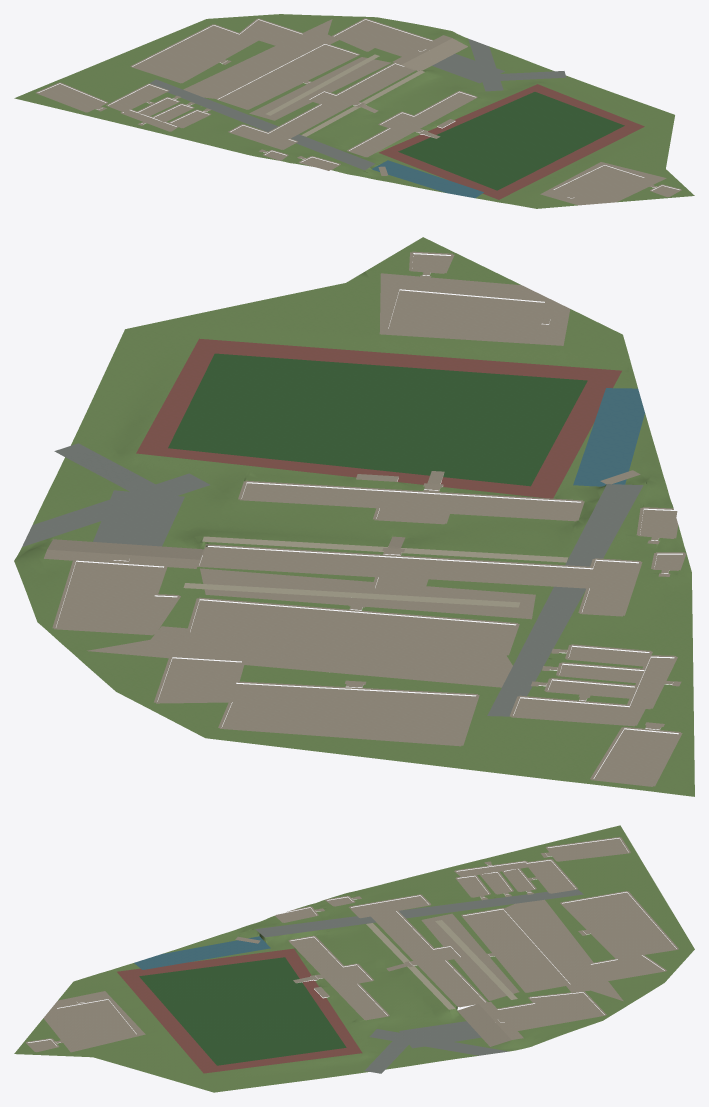
3 renders of one model, top to bottom at view 1: azimuth 30°, elevation 25°; view 2: azimuth 150°, elevation 25°; view 3: azimuth 270°, elevation 25°, orthographic. The views are drawn at different scales.
Visible parts, largest first — view 1: surface_school-garden-ground, surface_turf-playing-field, surface_track-red, surface_underbuilding-northwide, surface_north-work-yard, surface_front-garden, surface_underbuilding-main, surface_underbuilding-northlong, surface_west-access-lane, surface_main-courtyard, surface_underbuilding-middle, surface_underbuilding-dorm (+13 smaller); view 2: surface_school-garden-ground, surface_turf-playing-field, surface_track-red, surface_underbuilding-northwide, surface_north-work-yard, surface_underbuilding-main, surface_underbuilding-northlong, surface_front-garden, surface_west-access-lane, surface_main-courtyard, surface_underbuilding-middle, surface_underbuilding-dorm (+17 smaller); view 3: surface_school-garden-ground, surface_turf-playing-field, surface_track-red, surface_underbuilding-northwide, surface_front-garden, surface_north-work-yard, surface_underbuilding-main, surface_underbuilding-northlong, surface_west-access-lane, surface_underbuilding-middle, surface_main-courtyard, surface_underbuilding-dorm (+12 smaller).
Part boxes in pixels (bbox=[...]): surface_school-garden-ground: bbox=[14, 14, 694, 208]; surface_turf-playing-field: bbox=[398, 92, 624, 190]; surface_track-red: bbox=[378, 84, 644, 199]; surface_underbuilding-northwide: bbox=[133, 20, 301, 82]; surface_north-work-yard: bbox=[183, 19, 338, 98]; surface_front-garden: bbox=[312, 79, 463, 145]; surface_underbuilding-main: bbox=[231, 64, 413, 149]; surface_underbuilding-northlong: bbox=[219, 44, 357, 108]; surface_west-access-lane: bbox=[149, 79, 375, 170]; surface_main-courtyard: bbox=[249, 57, 391, 120]; surface_underbuilding-middle: bbox=[349, 92, 475, 156]; surface_underbuilding-dorm: bbox=[334, 19, 431, 56]; surface_school-garden-ground: bbox=[14, 237, 694, 796]; surface_turf-playing-field: bbox=[168, 353, 587, 486]; surface_track-red: bbox=[136, 338, 621, 498]; surface_underbuilding-northwide: bbox=[157, 658, 475, 744]; surface_north-work-yard: bbox=[87, 626, 512, 687]; surface_underbuilding-main: bbox=[199, 546, 638, 614]; surface_underbuilding-northlong: bbox=[190, 600, 515, 654]; surface_front-garden: bbox=[218, 498, 559, 554]; surface_west-access-lane: bbox=[487, 484, 643, 716]; surface_main-courtyard: bbox=[200, 568, 535, 619]; surface_underbuilding-middle: bbox=[242, 483, 580, 522]; surface_underbuilding-dorm: bbox=[56, 561, 176, 633]; surface_school-garden-ground: bbox=[14, 825, 694, 1092]; surface_turf-playing-field: bbox=[139, 957, 346, 1065]; surface_track-red: bbox=[117, 948, 362, 1073]; surface_underbuilding-northwide: bbox=[563, 892, 675, 980]; surface_front-garden: bbox=[325, 927, 432, 1019]; surface_north-work-yard: bbox=[505, 899, 623, 1001]; surface_underbuilding-main: bbox=[351, 896, 484, 1007]; surface_underbuilding-northlong: bbox=[464, 909, 569, 991]; surface_west-access-lane: bbox=[255, 889, 583, 937]; surface_underbuilding-middle: bbox=[291, 937, 386, 1019]; surface_main-courtyard: bbox=[421, 913, 519, 1000]; surface_underbuilding-dorm: bbox=[498, 992, 603, 1030].
Size of the model in its own units: 272 by 2.05 by 295.
Materials: 7 (7 with a texture image).
